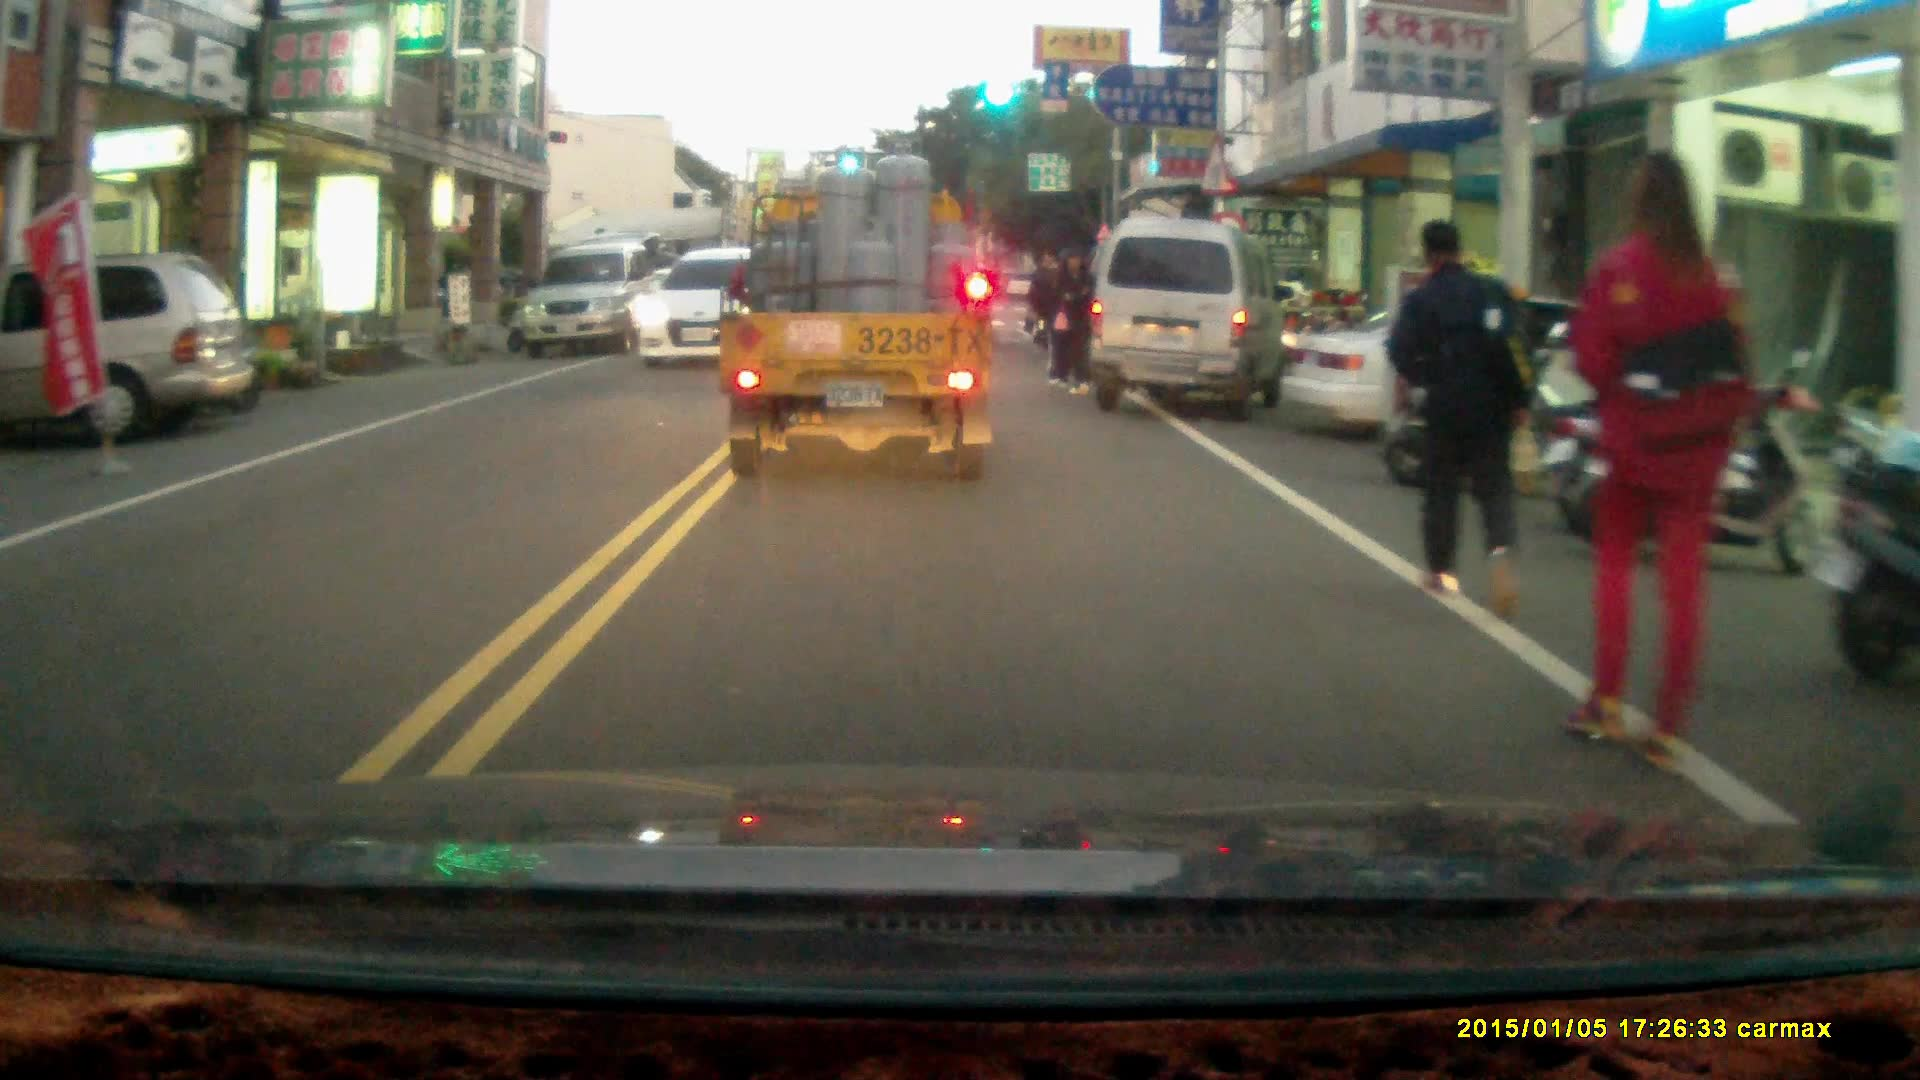pedestrian: (1554, 148, 1757, 779), (1383, 216, 1530, 616), (1050, 246, 1091, 394), (1023, 252, 1066, 353)
vehicle: (720, 182, 997, 493), (1286, 299, 1716, 464), (1, 250, 259, 440), (1090, 216, 1290, 420), (511, 242, 665, 356), (630, 245, 760, 370)
